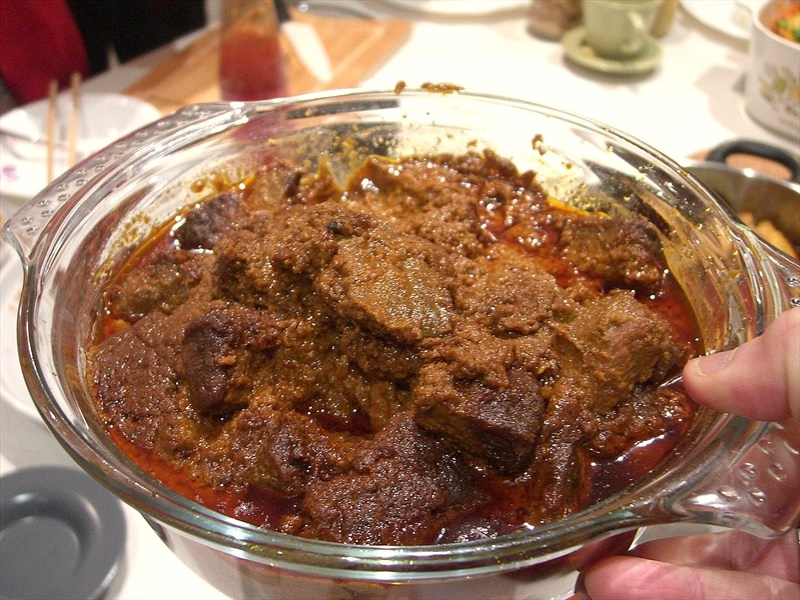Rendang: (82, 64, 728, 561)
